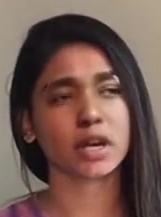eb_f: (39, 69, 127, 108)
